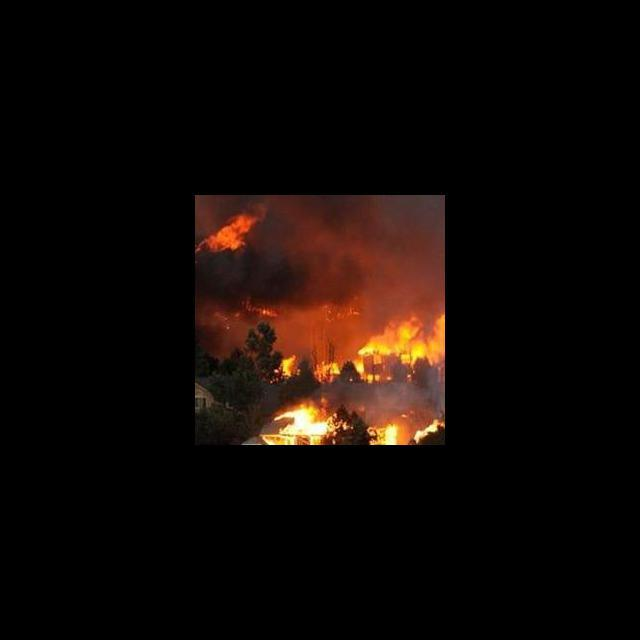Fire: (282, 312, 445, 386), (196, 206, 266, 253), (261, 399, 328, 444), (374, 420, 402, 445)
